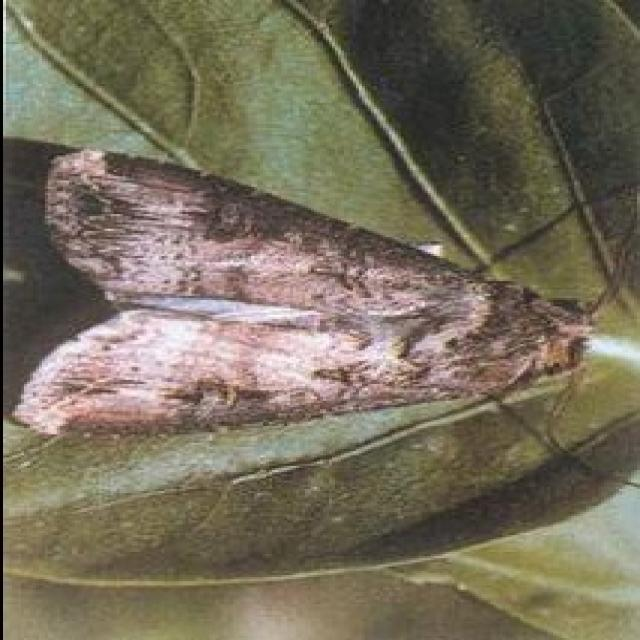black cutworm: (19, 143, 599, 485)
